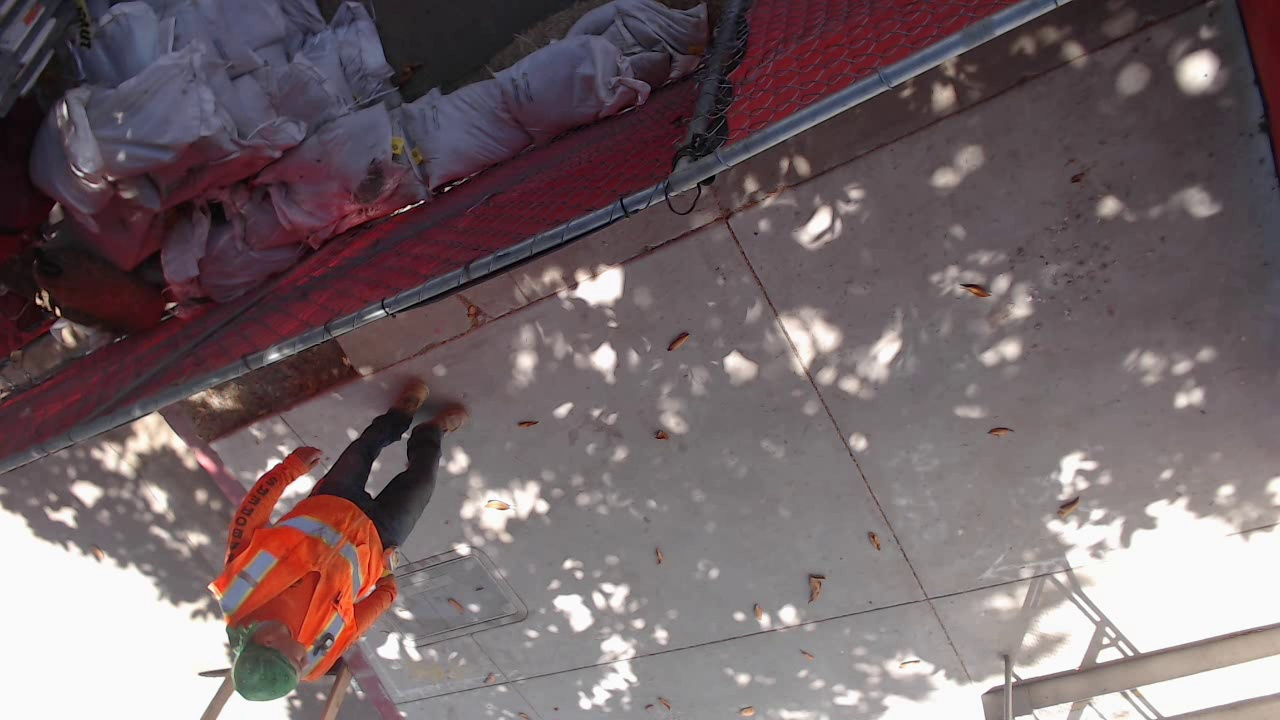person: (208, 382, 472, 705)
safetyvest: (209, 495, 385, 694)
